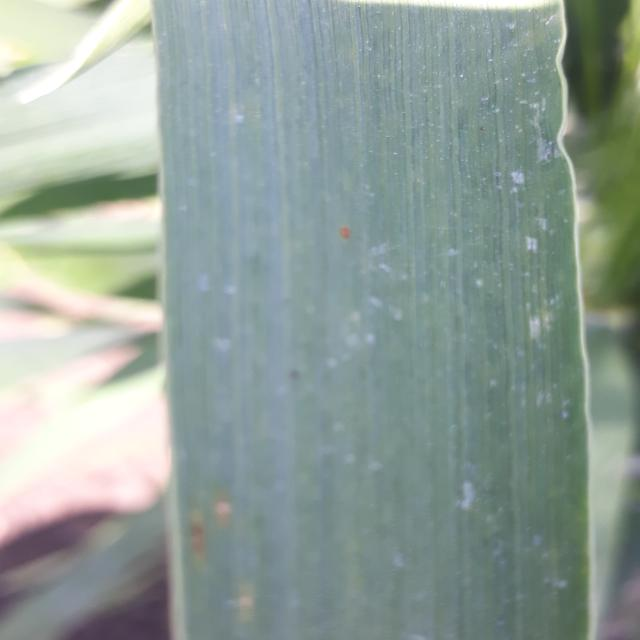orang_rust: (292, 184, 396, 276), (162, 425, 236, 523)
